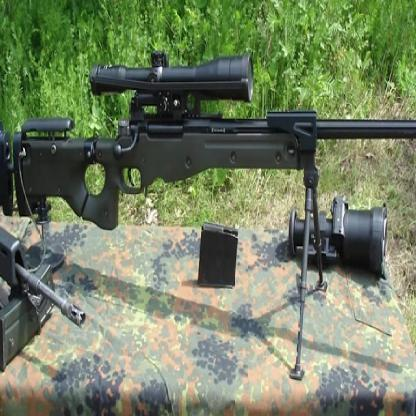Gun: (0, 48, 414, 227)
